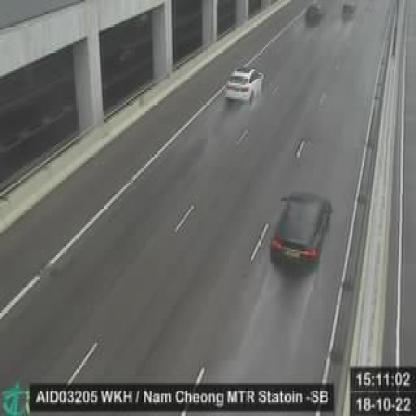Car: (268, 190, 334, 272), (222, 64, 264, 106)
